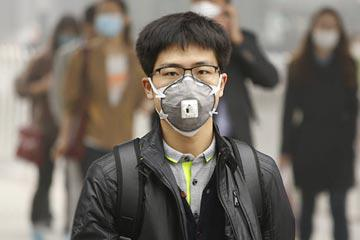OK: (155, 58, 220, 135), (94, 7, 127, 37), (314, 19, 341, 51), (192, 1, 225, 26)
